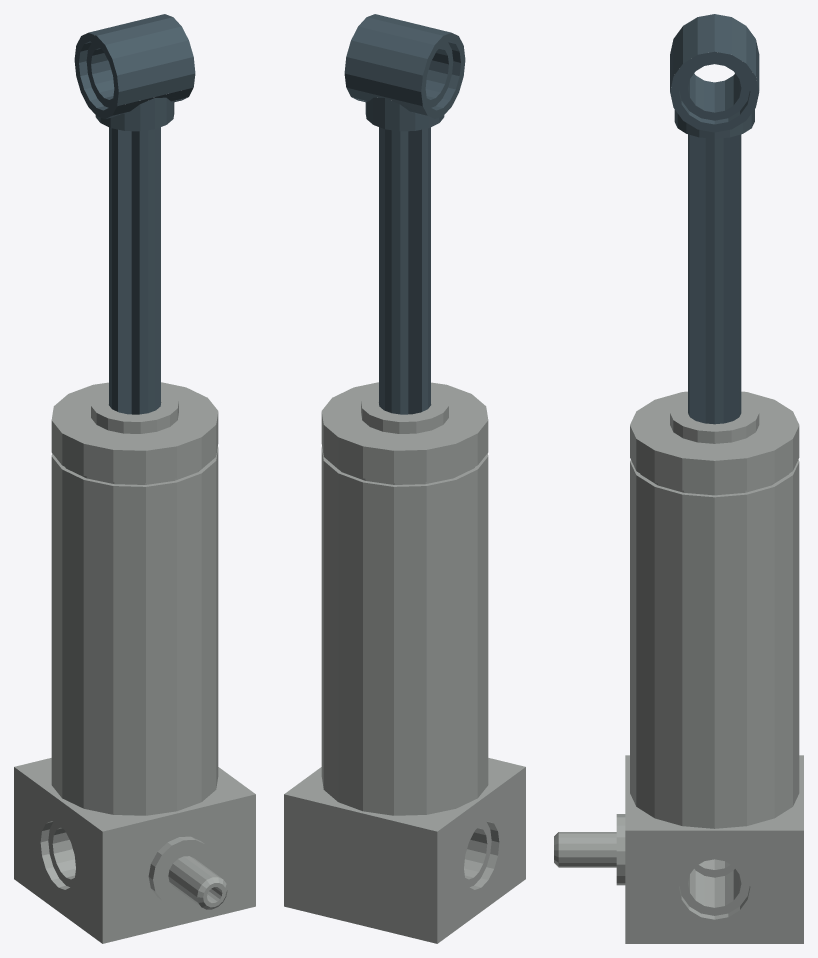
The picture shows the model from 3 angles, left to right: view 1: azimuth 30°, elevation 25°; view 2: azimuth 150°, elevation 25°; view 3: azimuth 270°, elevation 25°; orthographic projection.
Visible parts, largest first — view 1: world; view 2: world; view 3: world.
Boxes of the visible parts, <box> form: world: <box>14,14,255,943</box>; world: <box>284,14,525,943</box>; world: <box>554,14,803,943</box>.
Size of the model in its own units: 0.016 by 0.0864 by 0.0224.
